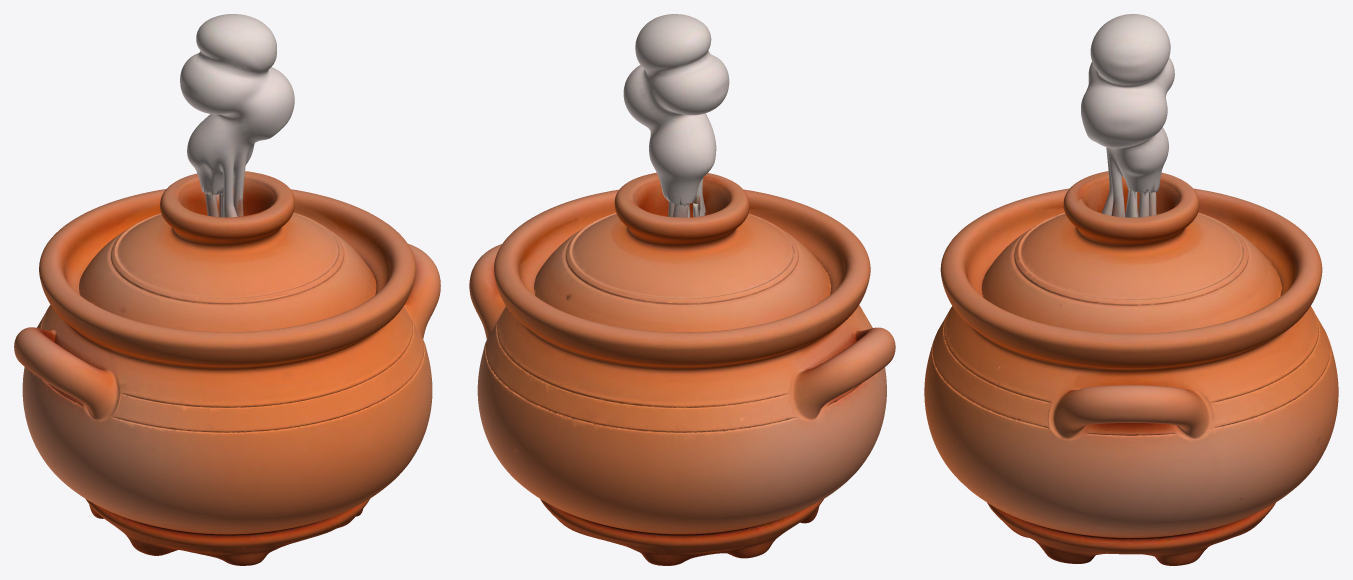
The model's file is clay-pot.glb.
3 views of the same model, side by side, from view 1: azimuth 30°, elevation 25°; view 2: azimuth 150°, elevation 25°; view 3: azimuth 270°, elevation 25° (orthographic).
Visible parts, largest first — view 1: material; view 2: material; view 3: material.
Boxes of the visible parts, x1=… form: material: x1=14, y1=14, x2=440, y2=565; material: x1=469, y1=14, x2=895, y2=565; material: x1=924, y1=14, x2=1338, y2=565.
Bounding box in the file's own units: 0.9187 × 1.07 × 0.8119.
1 material, 1 textured.
